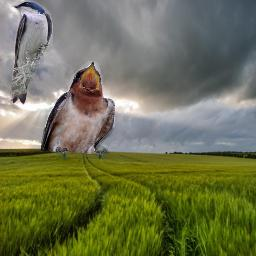Swallow: (41, 61, 115, 160), (8, 0, 53, 105)
